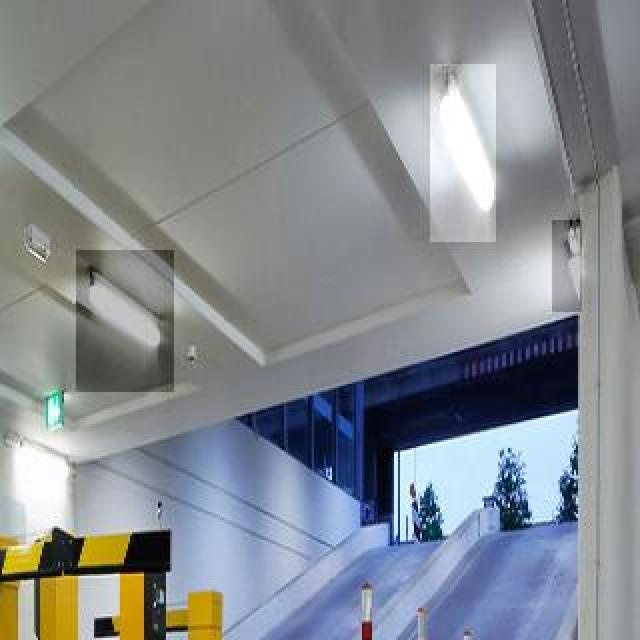fluorescent tube: (431, 64, 494, 244), (86, 255, 169, 365)
